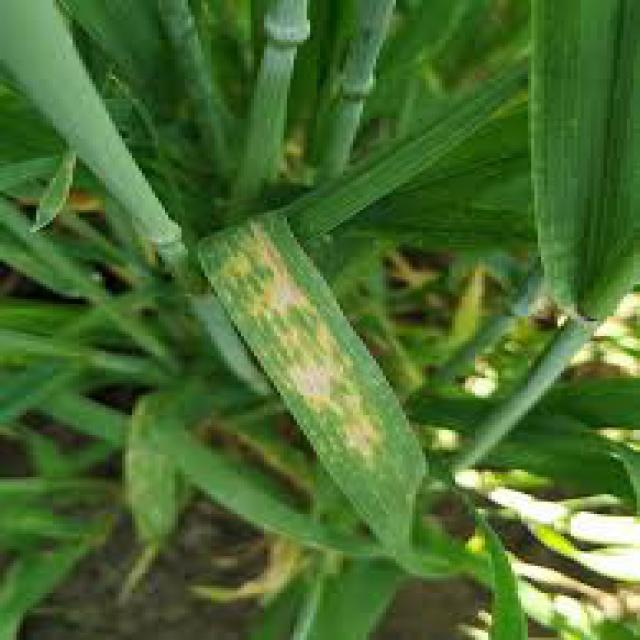wheat-powdery-mildew: (195, 213, 528, 640)
